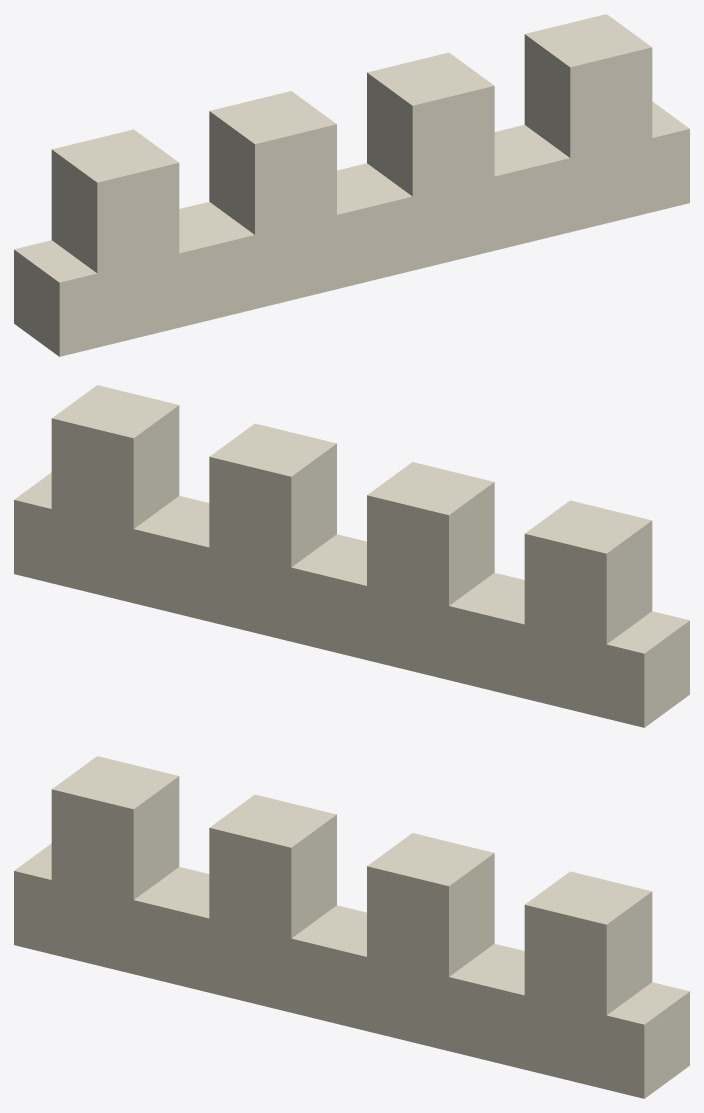
File: parapet-straight.glb
The picture shows the model from 3 angles, top to bottom: view 1: azimuth 30°, elevation 25°; view 2: azimuth 150°, elevation 25°; view 3: azimuth 330°, elevation 25°; orthographic projection.
Visible parts, largest first — view 1: parapet-straight; view 2: parapet-straight; view 3: parapet-straight.
Part boxes in pixels (<box>): parapet-straight: <box>14,14,689,356</box>; parapet-straight: <box>14,385,689,727</box>; parapet-straight: <box>14,756,689,1098</box>.
Size of the model in its own units: 4 by 1 by 0.5.
